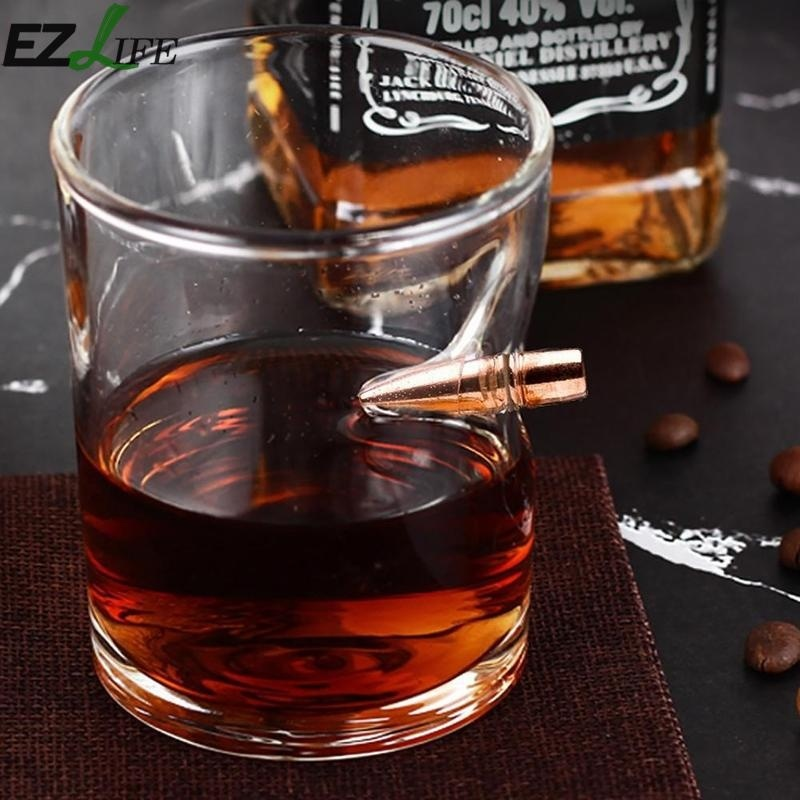whiskey: (53, 27, 537, 753)
